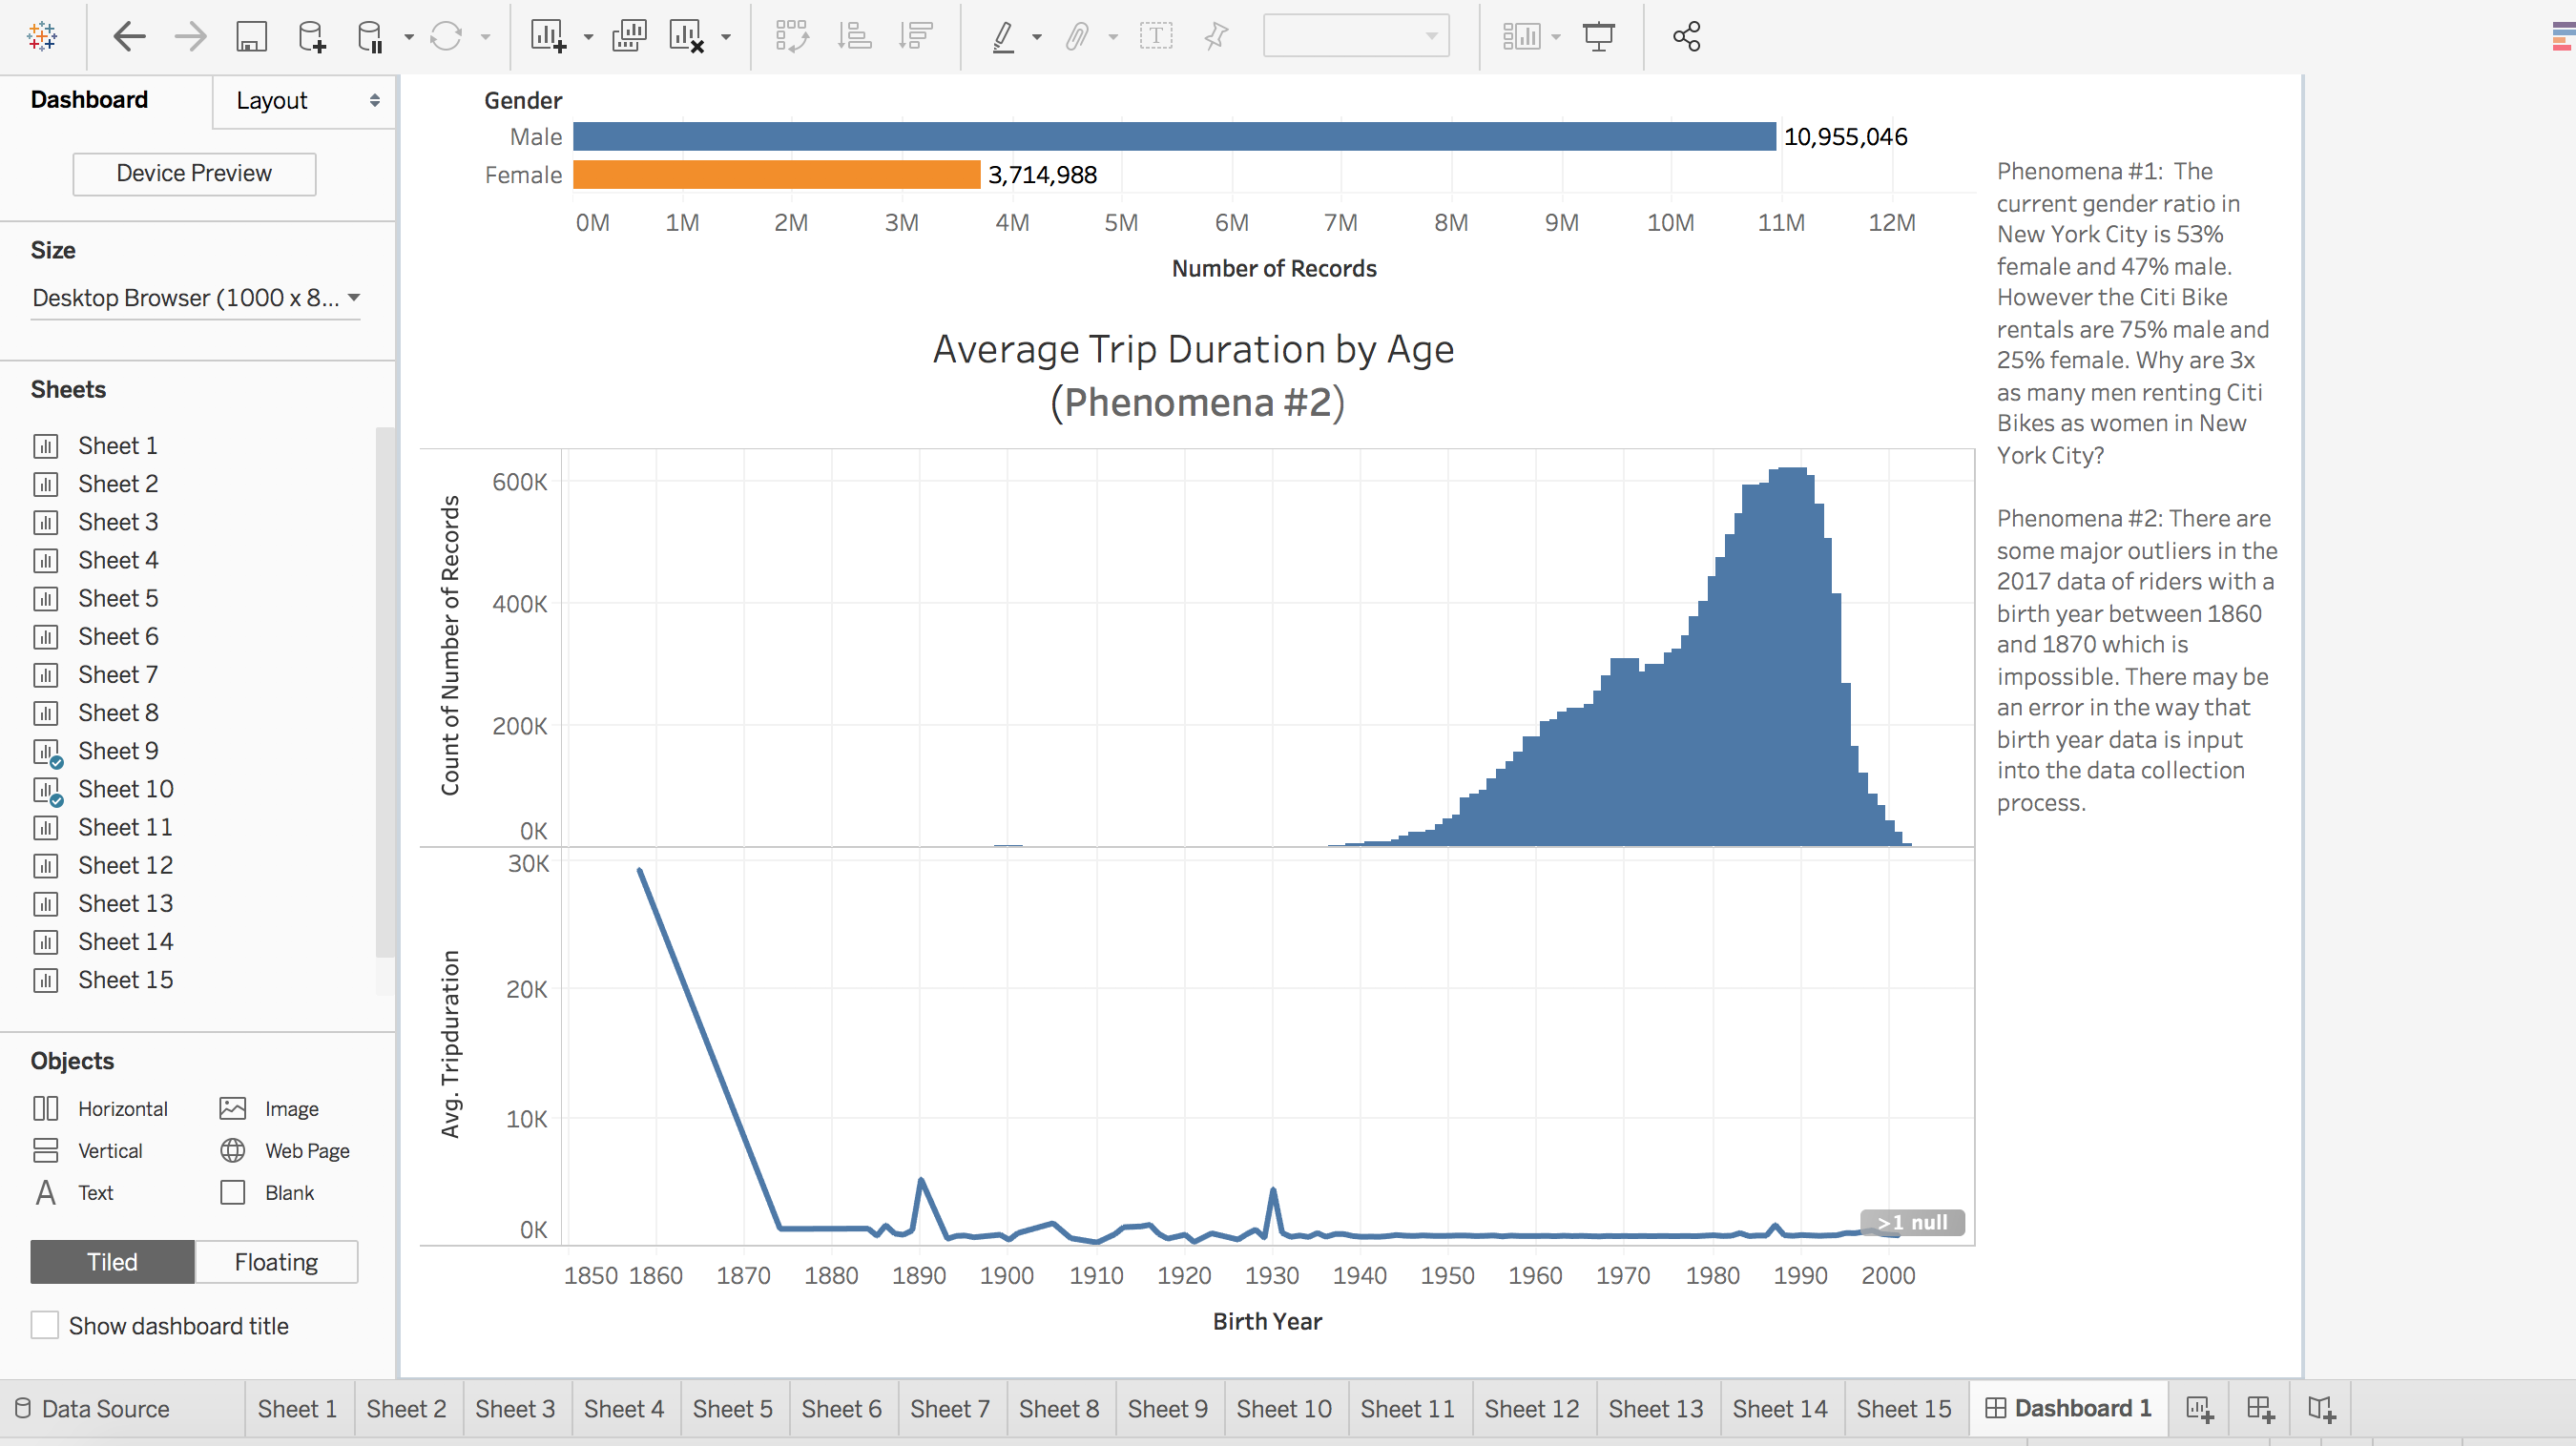

What the dashboard file says about the page in this screenshot:
{"tool":"tableau","page":{"name":"Dashboard 1","canvas":[1000,800],"ordinal":0},"visuals":[{"type":"text","box":[8,8,824,36]},{"type":"legend","title":"Sheet 9","param":"[federated.0nol3ks1dgi1271b4hfef1el0j15].[none:gender:ok]","box":[832,8,160,66]},{"type":"worksheet","title":"Sheet 9","mark":"Automatic","rows":["gender"],"cols":["Number of Records"],"box":[8,44,824,194]},{"type":"text","box":[832,74,160,527]},{"type":"worksheet","title":"Sheet 10","mark":"Bar","rows":["Number of Records","tripduration"],"cols":["birth year"],"box":[8,238,824,554]}]}

Visuals, with their boxes on the page's 1000x800 design canvas (x1, y1, x2, y2). These are canvas units, not pixel positions in the 2576x1446 screenshot, which may show the page scaled, cropped or inside an application window:
text: left=8, top=8, right=832, bottom=44
"Sheet 9" legend: left=832, top=8, right=992, bottom=74
"Sheet 9" worksheet: left=8, top=44, right=832, bottom=238
text: left=832, top=74, right=992, bottom=601
"Sheet 10" worksheet (Bar marks): left=8, top=238, right=832, bottom=792
